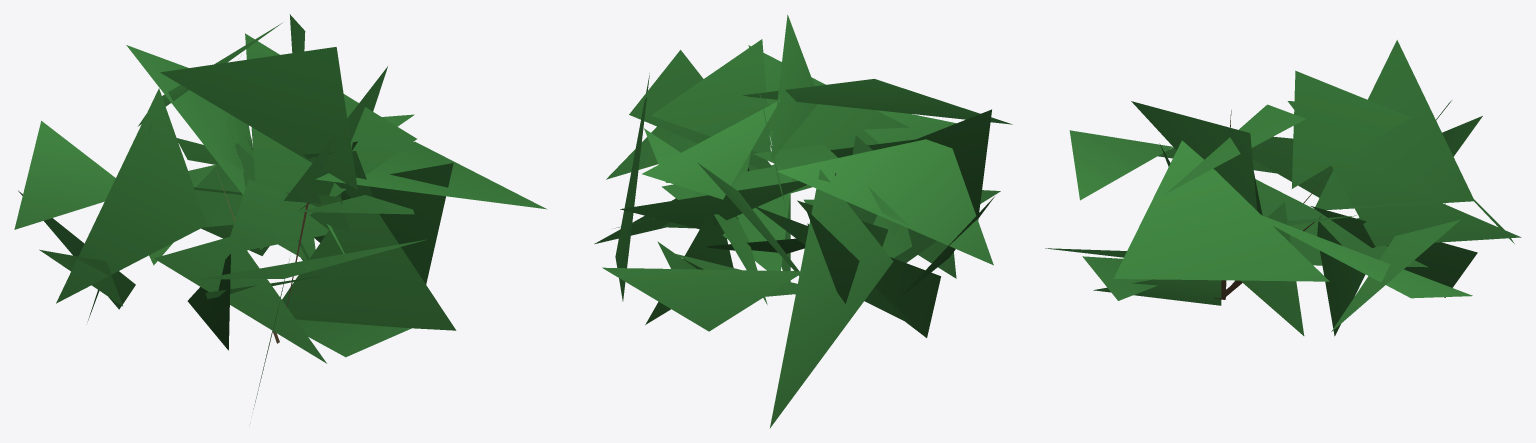
File: bush2.glb
The picture shows the model from 3 angles, left to right: view 1: azimuth 30°, elevation 25°; view 2: azimuth 150°, elevation 25°; view 3: azimuth 270°, elevation 25°; orthographic projection. The views are drawn at different scales.
Visible parts, largest first — view 1: Bush.001; view 2: Bush.001; view 3: Bush.001.
Part boxes in pixels (x1,y1,x2,y2): Bush.001: [14, 14, 546, 409]; Bush.001: [594, 15, 1012, 428]; Bush.001: [1045, 40, 1521, 336].
Size of the model in its own units: 3.42 by 2.45 by 3.23.
